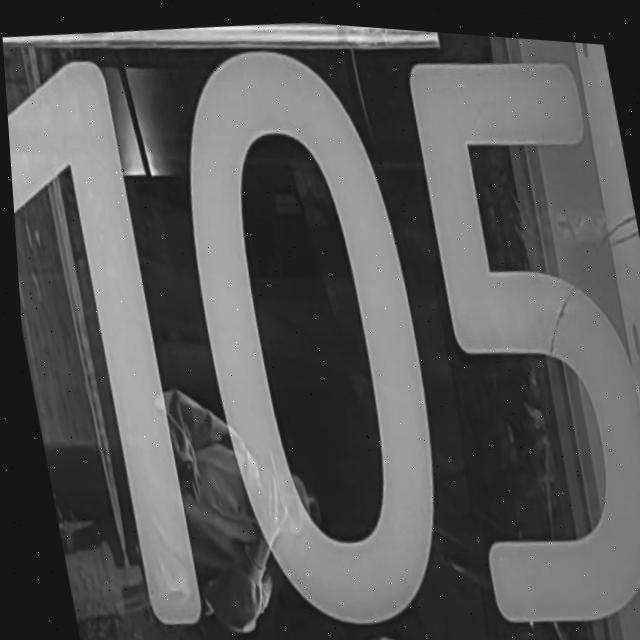character: (149, 22, 479, 640), (382, 28, 640, 640), (3, 42, 222, 640)
